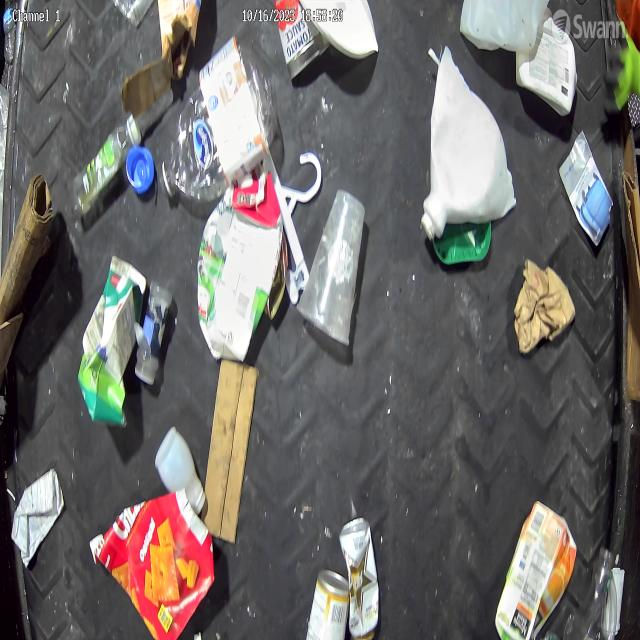can: (339, 515, 380, 640), (276, 0, 320, 79), (306, 568, 350, 640)
milk_jug: (420, 46, 518, 240), (516, 5, 578, 116), (460, 0, 551, 52)
non_white_jug: (197, 174, 283, 362), (79, 254, 148, 427), (495, 499, 578, 640), (564, 545, 617, 640)
plastic_bottle: (161, 45, 280, 202), (73, 112, 142, 219), (134, 278, 172, 384), (4, 0, 15, 63)
